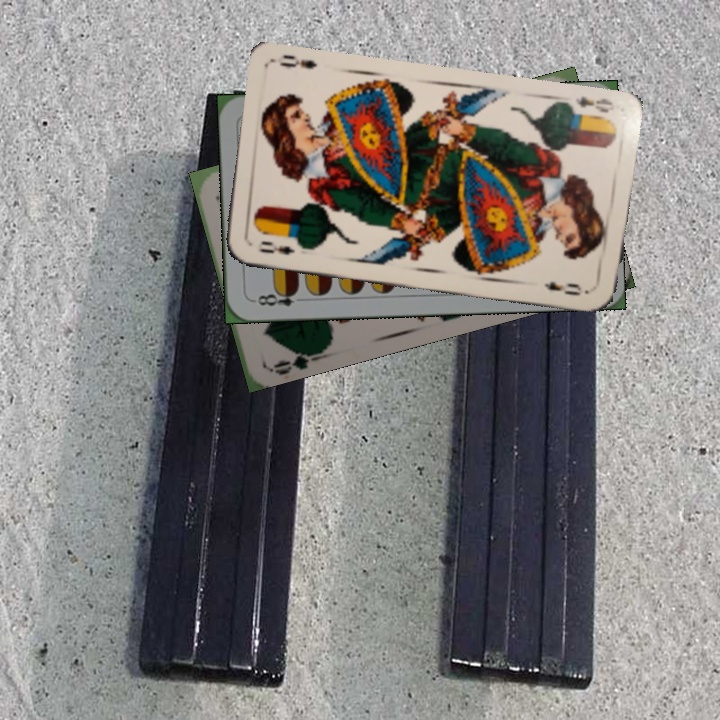E8: (249, 285, 308, 309)
EO: (571, 92, 617, 116), (253, 236, 297, 258)
GO: (268, 344, 327, 377)
